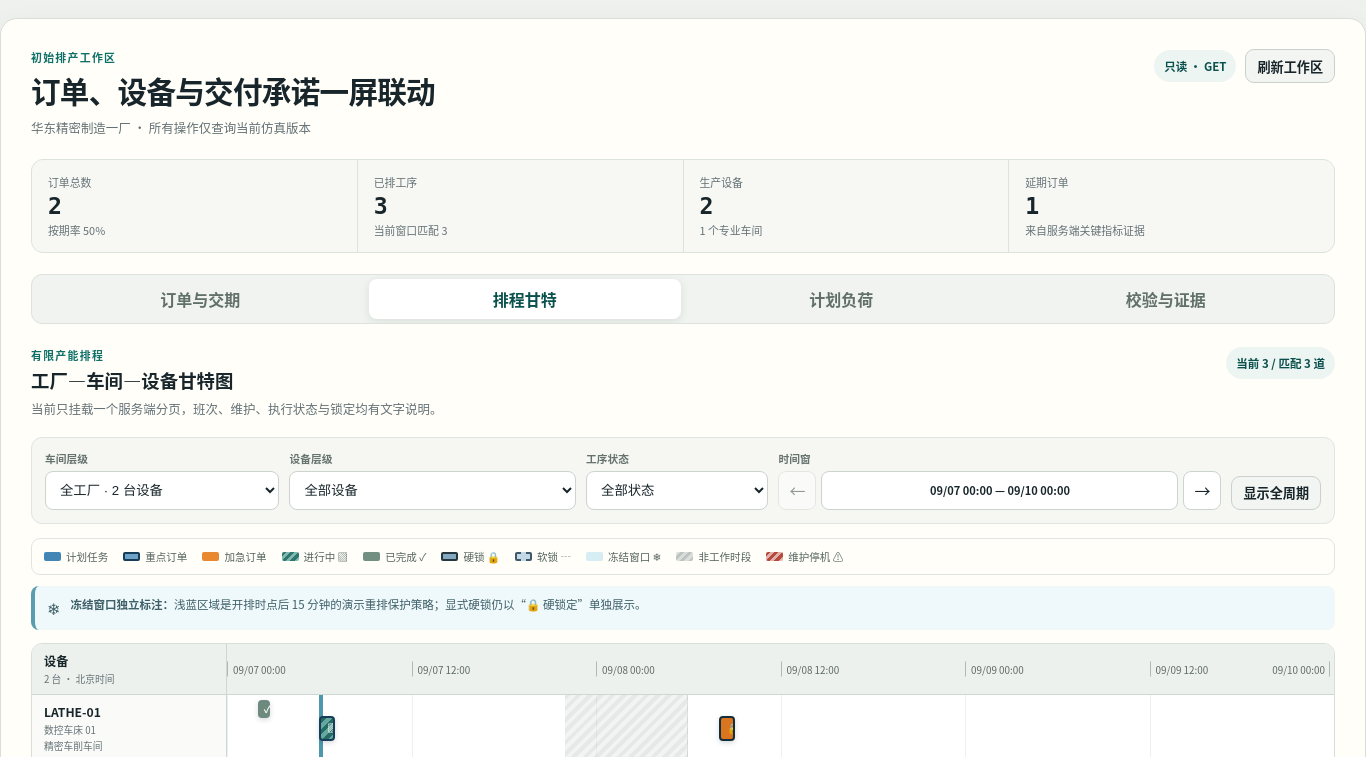
Test: 中文初始排产工作区 › 筛选订单并通过 GET 查询联动到该订单甘特
The image size is (1366, 757).
Click the tab "订单与交期" at (200, 298), box [36,278,364,318]
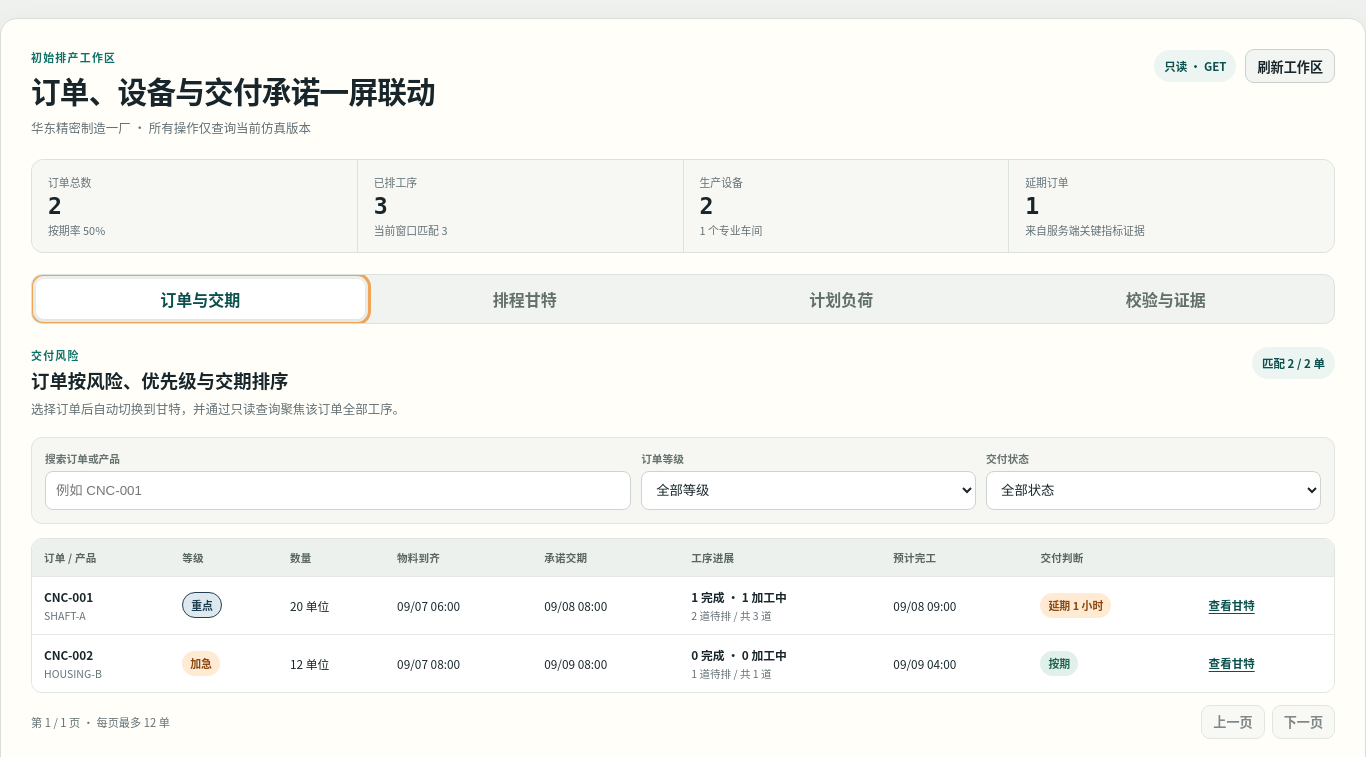
Type "CNC-002" into the search field labelled "搜索订单或产品" at (338, 490), box [45,471,631,510]
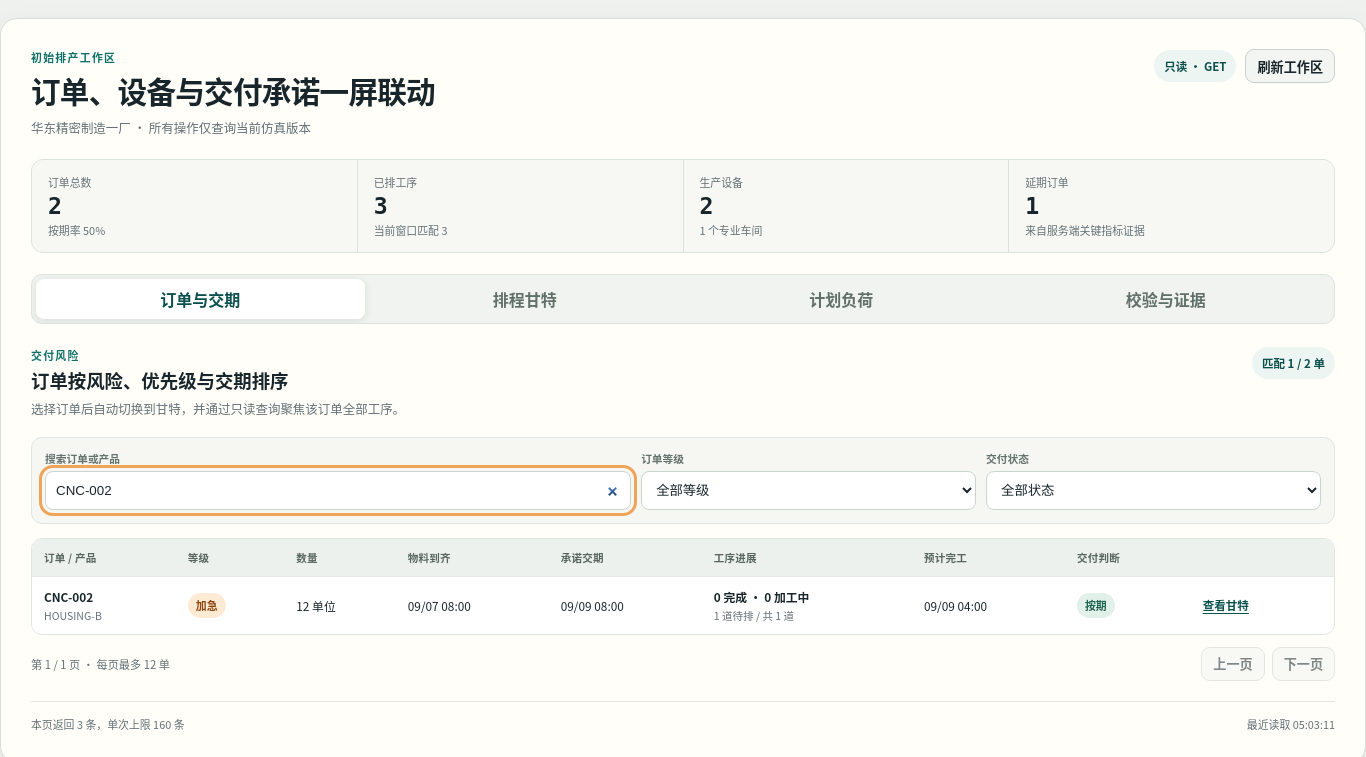
Now the text "匹配 1 / 2 单" is shown, box [1252,346,1335,378]
Now the text "CNC-001" is gone
Click the button with aria-label "在甘特中查看订单 CNC-002" at (1226, 605), box [1195,591,1257,619]
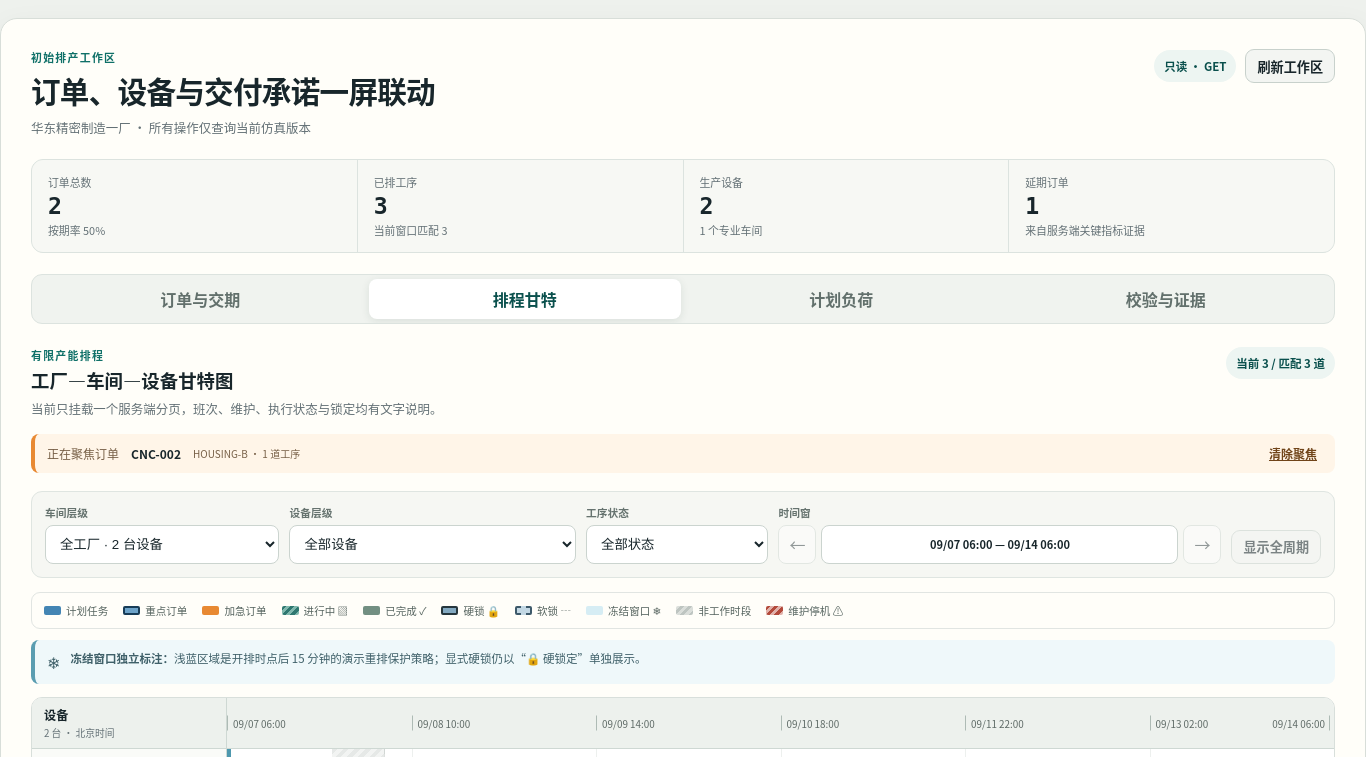
Now the text "正在聚焦订单" is shown, box [47,445,119,462]
